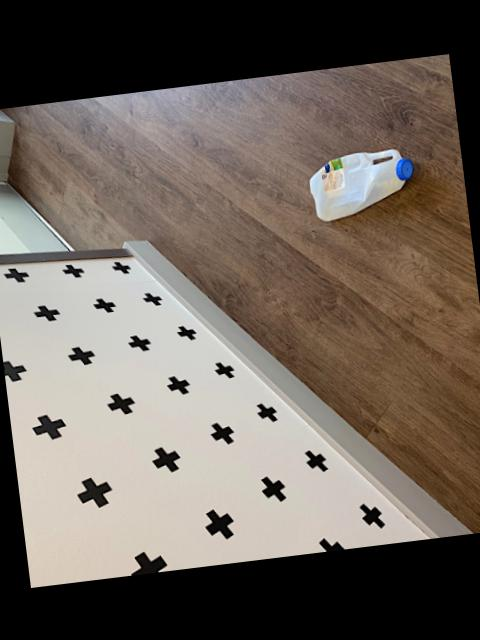plastic: (309, 147, 411, 218)
